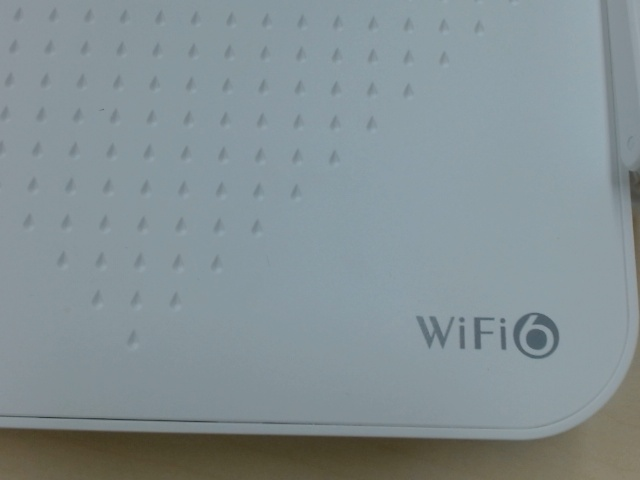AK_ZTEWIFI6: (410, 303, 564, 366)
